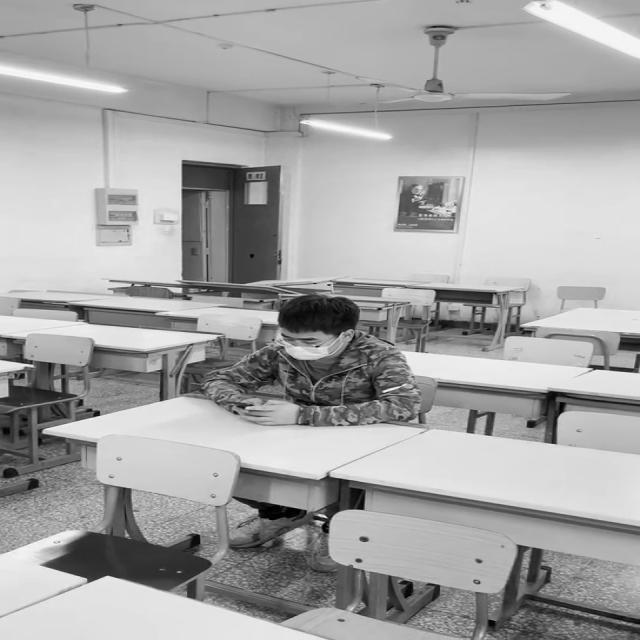phone: (201, 294, 419, 425)
